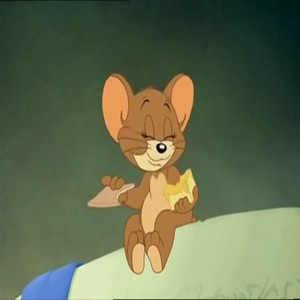Jerry: (85, 71, 200, 273)
